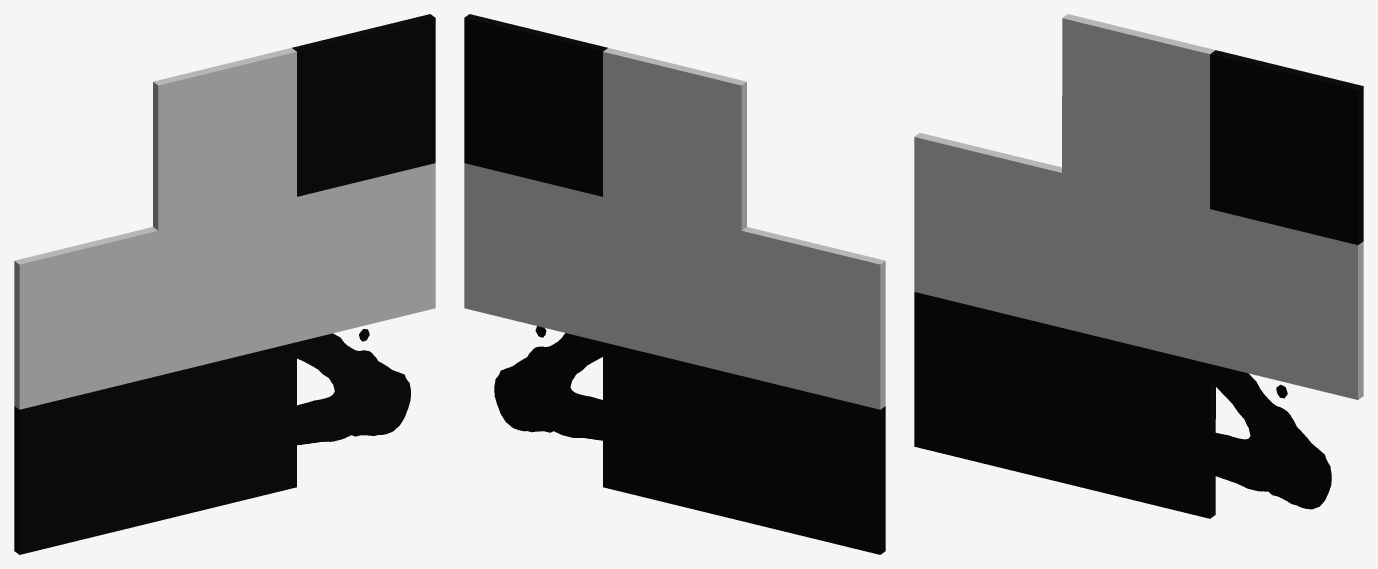
File: SpuzzlePieces.fbx
3 renders of one model, left to right at view 1: azimuth 30°, elevation 25°; view 2: azimuth 150°, elevation 25°; view 3: azimuth 330°, elevation 25°, orthographic. The views are drawn at different scales.
Visible parts, largest first — view 1: Piece 6, Piece 8, Piece 3, Piece 7, Piece 5, Piece 2, Piece 4, Piece 1; view 2: Piece 6, Piece 8, Piece 3, Piece 7, Piece 5, Piece 4, Piece 2, Piece 1; view 3: Piece 7, Piece 4, Piece 8, Piece 6, Piece 2, Piece 5, Piece 3, Piece 1.
Boxes of the visible parts, <box> form: Piece 6: <box>14,227,158,409</box>; Piece 8: <box>153,48,296,230</box>; Piece 3: <box>14,376,158,554</box>; Piece 7: <box>292,14,435,196</box>; Piece 5: <box>158,197,296,375</box>; Piece 2: <box>158,342,296,520</box>; Piece 4: <box>297,163,435,341</box>; Piece 1: <box>297,329,410,445</box>; Piece 6: <box>741,227,885,409</box>; Piece 8: <box>603,48,746,230</box>; Piece 3: <box>741,376,885,554</box>; Piece 7: <box>464,14,607,196</box>; Piece 5: <box>603,197,741,375</box>; Piece 4: <box>464,163,602,341</box>; Piece 2: <box>603,342,741,520</box>; Piece 1: <box>494,326,602,440</box>; Piece 7: <box>1210,50,1363,244</box>; Piece 4: <box>1210,209,1363,399</box>; Piece 8: <box>1062,14,1215,208</box>; Piece 6: <box>914,133,1061,327</box>; Piece 2: <box>1062,328,1215,518</box>; Piece 5: <box>1062,173,1209,363</box>; Piece 3: <box>914,292,1061,482</box>; Piece 1: <box>1210,364,1331,509</box>.
Bounding box in the file's own units: 45 × 45 × 1.
